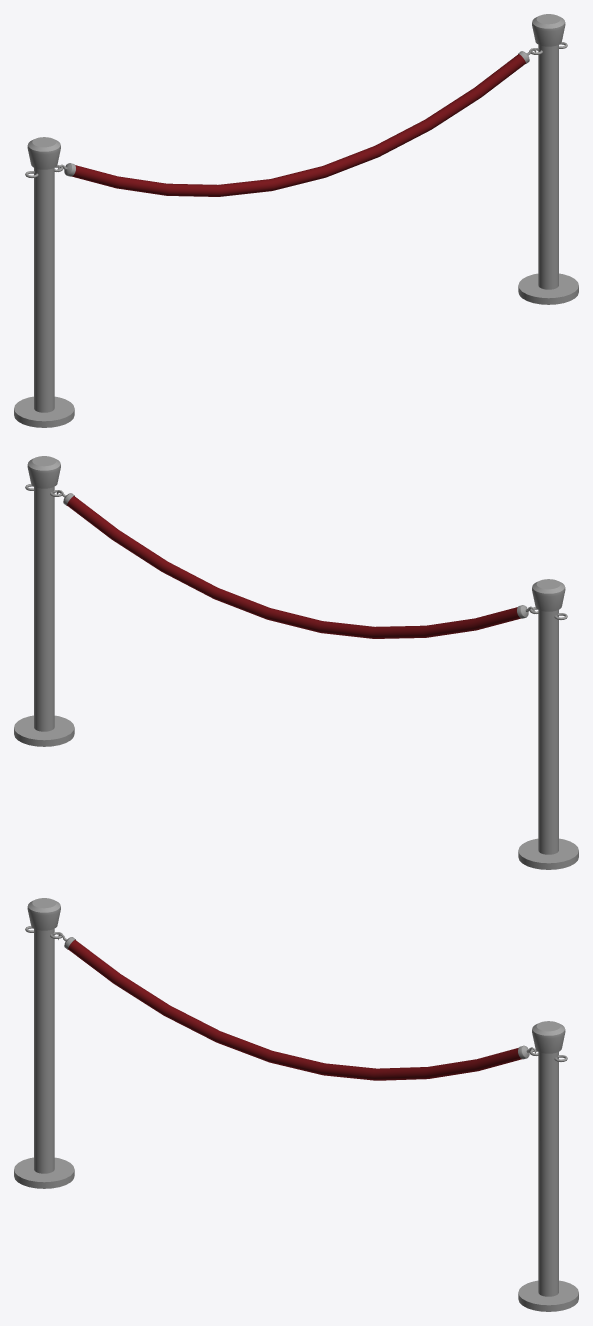
File: fenceFancyPost2Posts.fbx
3 views of the same model, one above another, from view 1: azimuth 30°, elevation 25°; view 2: azimuth 150°, elevation 25°; view 3: azimuth 330°, elevation 25° (orthographic).
Visible parts, largest first — view 1: Fence Fancy 2 Posts; view 2: Fence Fancy 2 Posts; view 3: Fence Fancy 2 Posts.
Part boxes in pixels (x1,y1,x2,y2): Fence Fancy 2 Posts: (14,14,578,427); Fence Fancy 2 Posts: (14,456,578,869); Fence Fancy 2 Posts: (14,898,578,1311).
Bounding box in the file's own units: 219 × 20.61 × 102.
